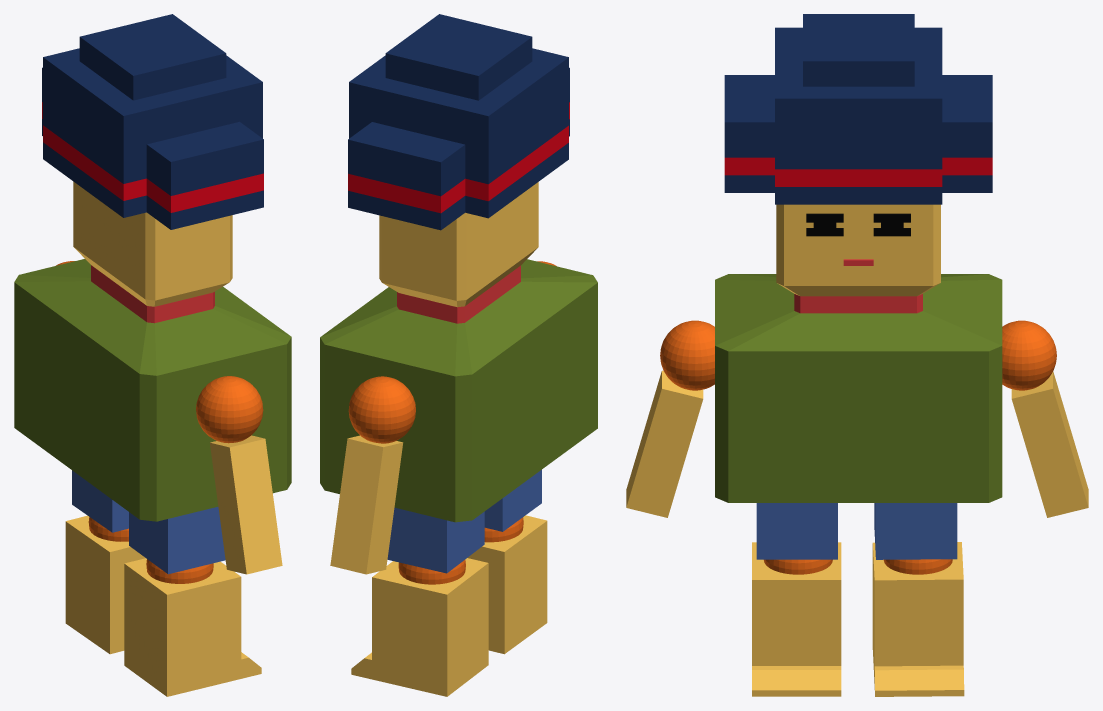
The picture shows the model from 3 angles, left to right: view 1: azimuth 30°, elevation 25°; view 2: azimuth 150°, elevation 25°; view 3: azimuth 270°, elevation 25°; orthographic projection. The views are drawn at different scales.
Visible parts, largest first — view 1: body, R-SLEG, R-Hand, L-SLeg, R-BLeg, L-Knee, R-Knee, L-Knele; view 2: body, L-SLeg, L-Hand, R-SLEG, L-Knee, R-BLeg, L-Knele, R-Knee; view 3: body, L-SLeg, R-SLEG, R-Hand, L-Hand, L-Knee, R-BLeg, L-Knele, R-Knee.
Boxes of the visible parts, bbox=[...] form: body: bbox=[14, 14, 291, 521]; R-SLEG: bbox=[124, 558, 261, 696]; R-Hand: bbox=[210, 435, 282, 574]; L-SLeg: bbox=[65, 515, 145, 654]; R-BLeg: bbox=[129, 507, 225, 574]; L-Knee: bbox=[72, 470, 128, 532]; R-Knee: bbox=[146, 559, 213, 583]; L-Knele: bbox=[88, 517, 128, 541]; body: bbox=[320, 14, 597, 522]; L-SLeg: bbox=[351, 558, 488, 696]; L-Hand: bbox=[330, 435, 403, 574]; R-SLEG: bbox=[467, 515, 547, 654]; L-Knee: bbox=[387, 507, 484, 573]; R-BLeg: bbox=[484, 470, 541, 531]; L-Knele: bbox=[398, 560, 465, 584]; R-Knee: bbox=[484, 517, 523, 542]; body: bbox=[660, 14, 1056, 502]; L-SLeg: bbox=[872, 542, 964, 696]; R-SLEG: bbox=[752, 542, 841, 696]; R-Hand: bbox=[626, 370, 703, 517]; L-Hand: bbox=[1011, 371, 1088, 517]; L-Knee: bbox=[874, 503, 957, 559]; R-BLeg: bbox=[756, 503, 837, 559]; L-Knele: bbox=[883, 559, 952, 574]; R-Knee: bbox=[764, 559, 832, 574].
Bounding box in the file's own units: 58.34 × 222 × 148.
